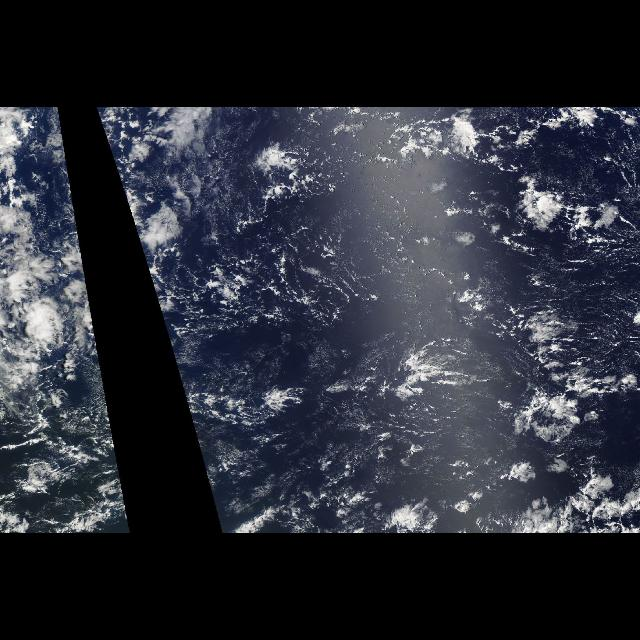Flower: (393, 110, 637, 260), (504, 284, 638, 448)
Gravel: (152, 190, 600, 490)
Sugar: (326, 395, 518, 493), (549, 237, 639, 379)
